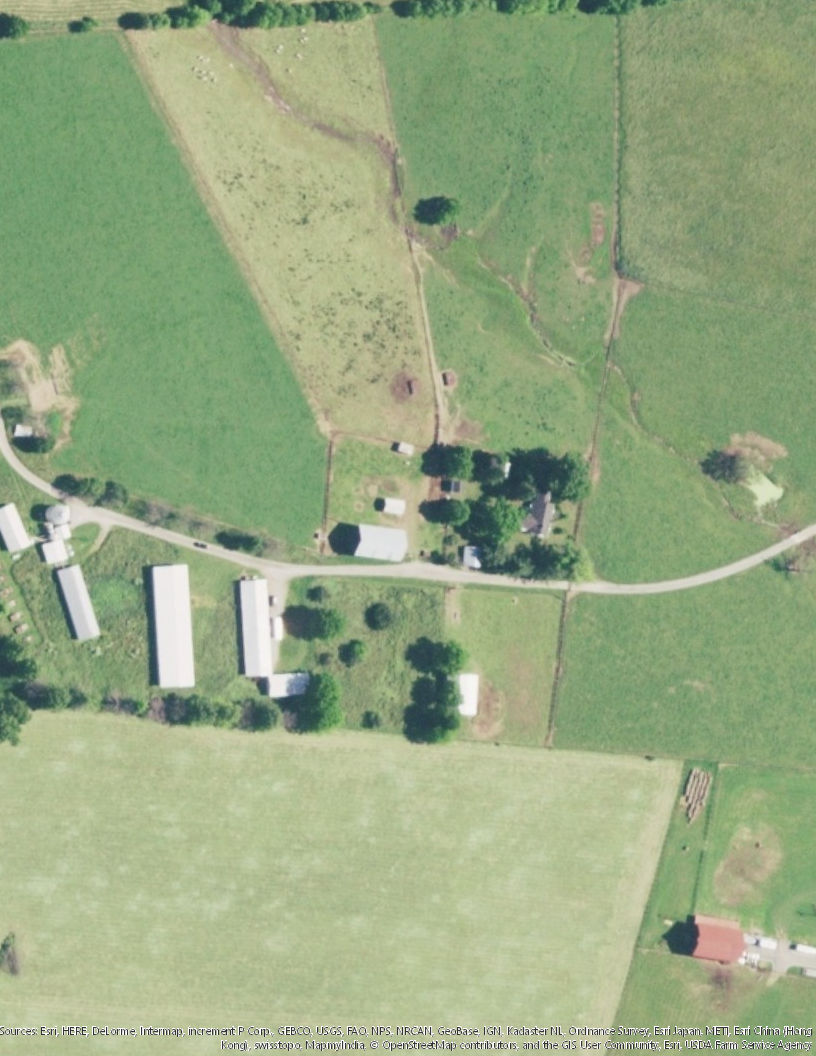cafo: (144, 561, 200, 690), (231, 572, 276, 682), (55, 562, 108, 645), (346, 521, 412, 564)
